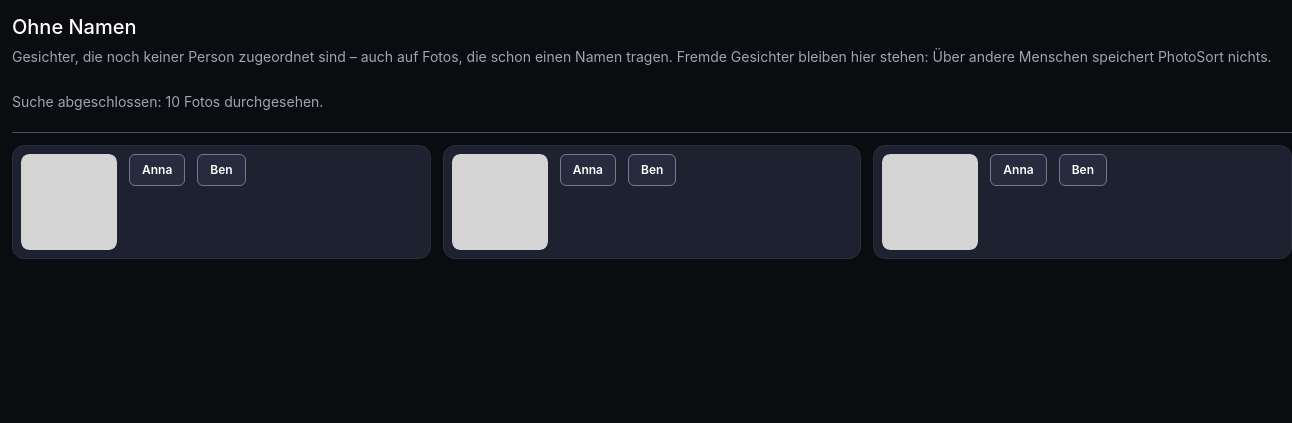
Test: UnnamedFacesGroup - Ablehnungen › sucht bei "kein Gesicht mehr" die Gesichter des Fotos neu und meldet es in der Leiste
Click the button with aria-label "Zuordnen: Anna": (588, 170) top-left (560, 154), bottom-right (616, 186)
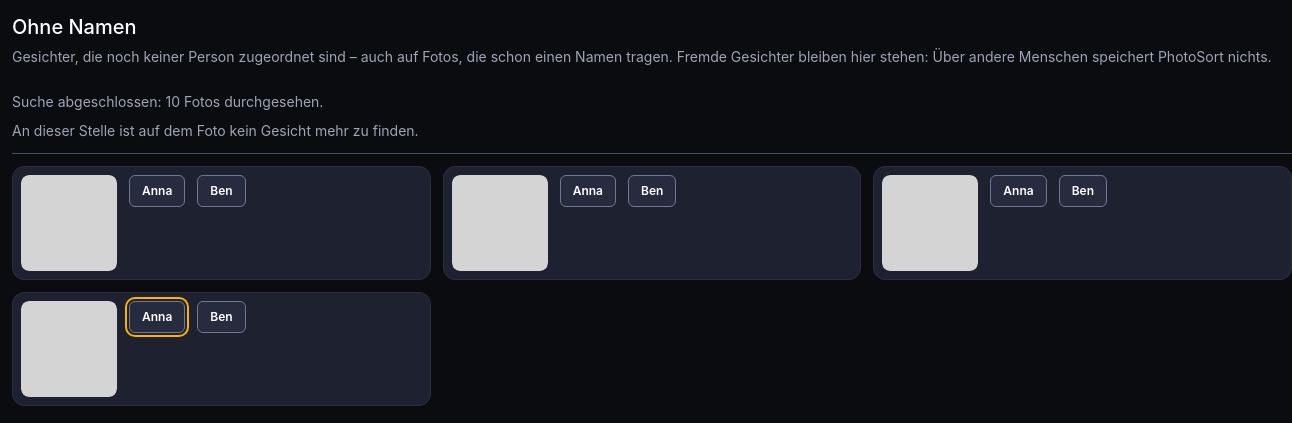
expect the message reads "An dieser Stelle ist auf dem Foto kein Gesicht mehr zu finden.": met, box top-left (12, 122), bottom-right (419, 139)
